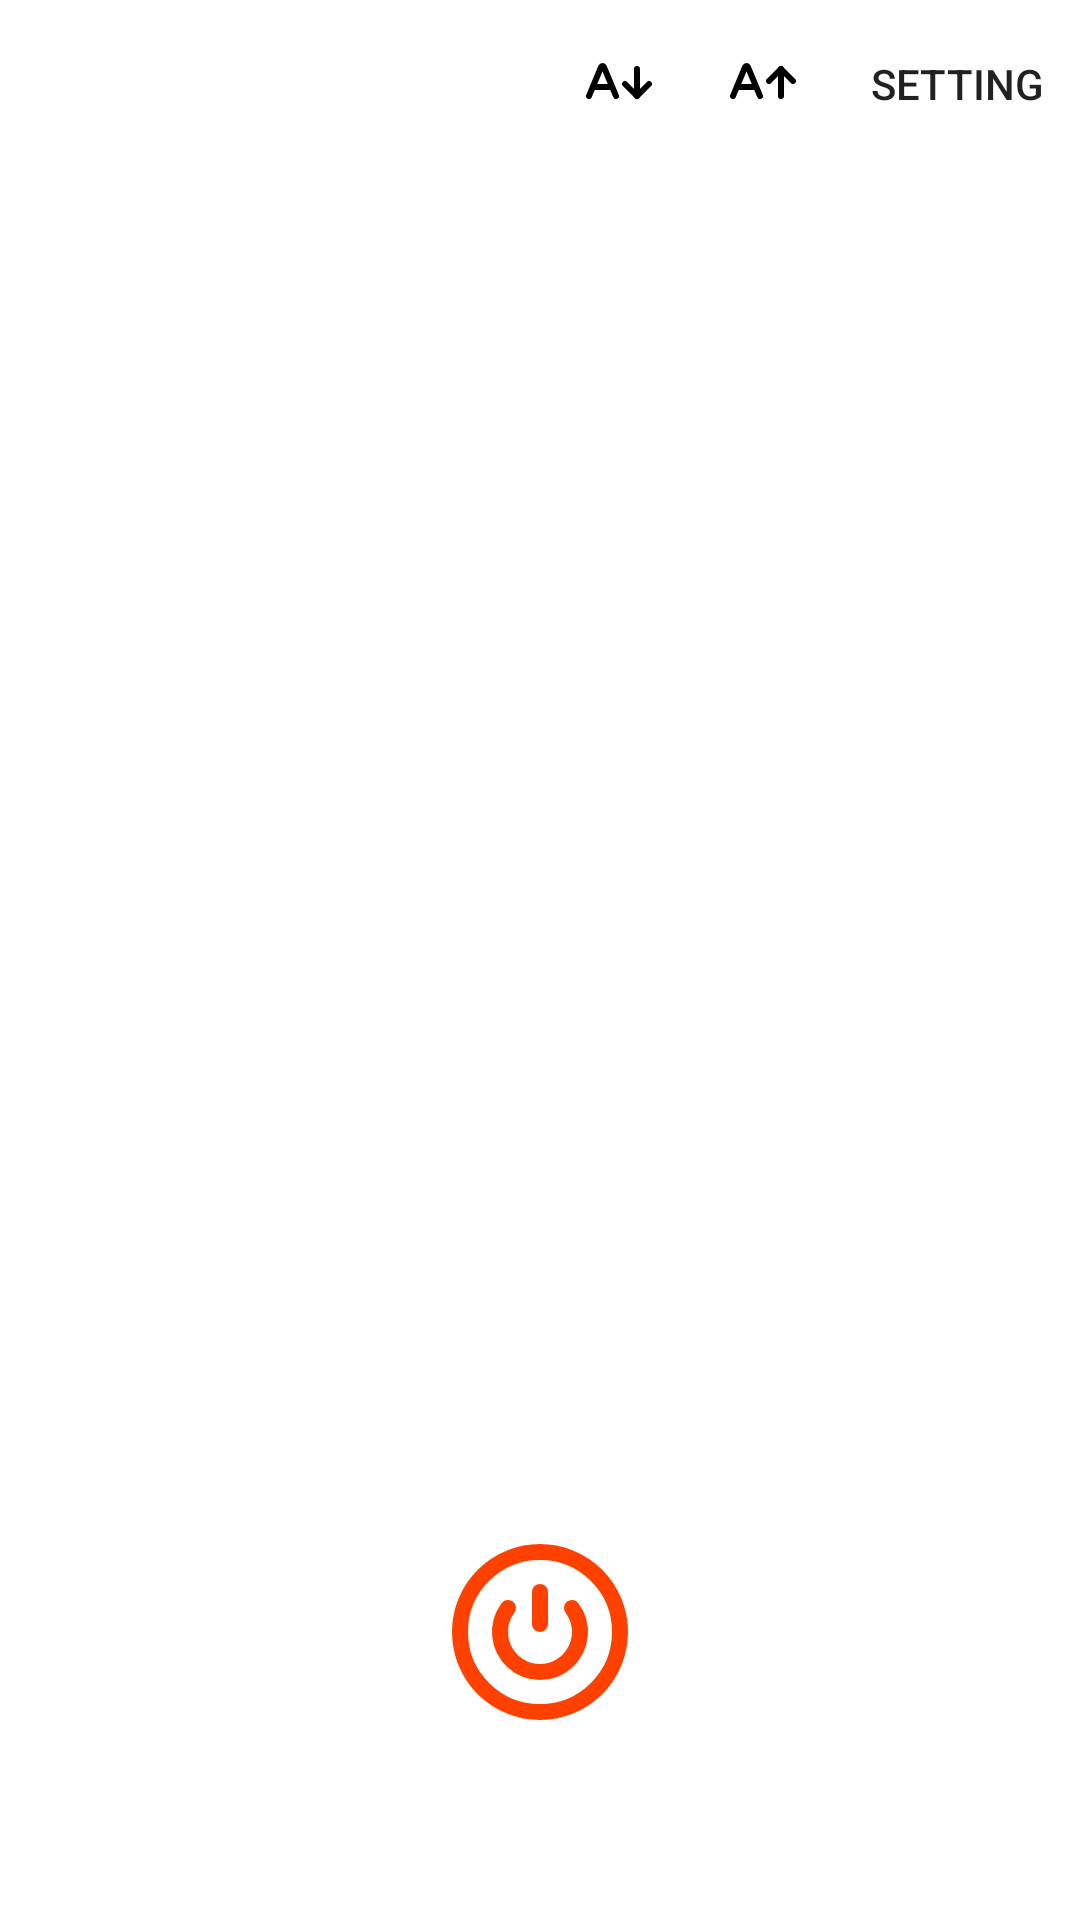

Where to tap for icons on this 1080×1920 app screen, as point (x, y):
circle power: point (540, 1632)
